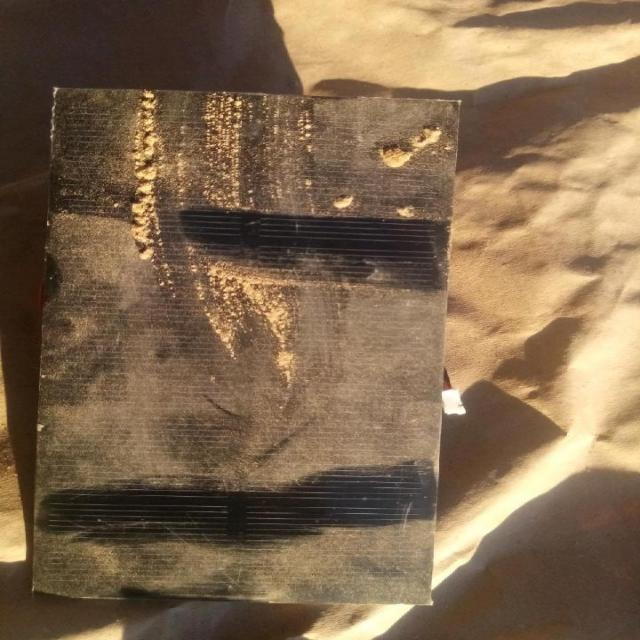faulty: (29, 89, 424, 608)
